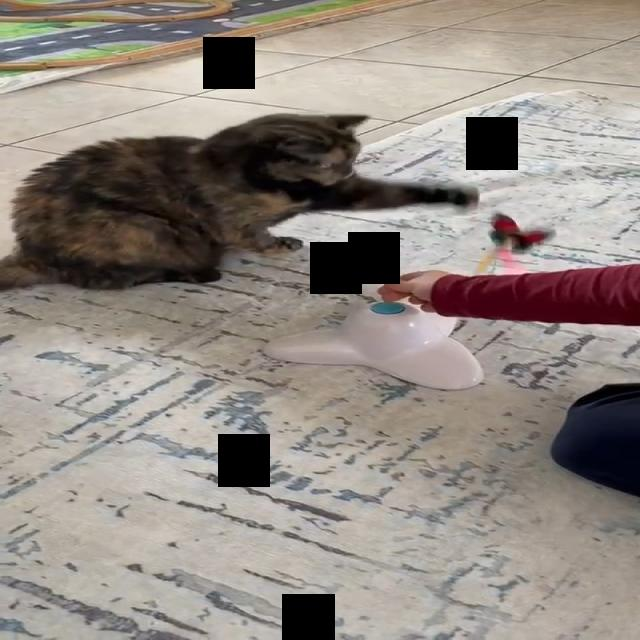authorized: (0, 112, 479, 290)
